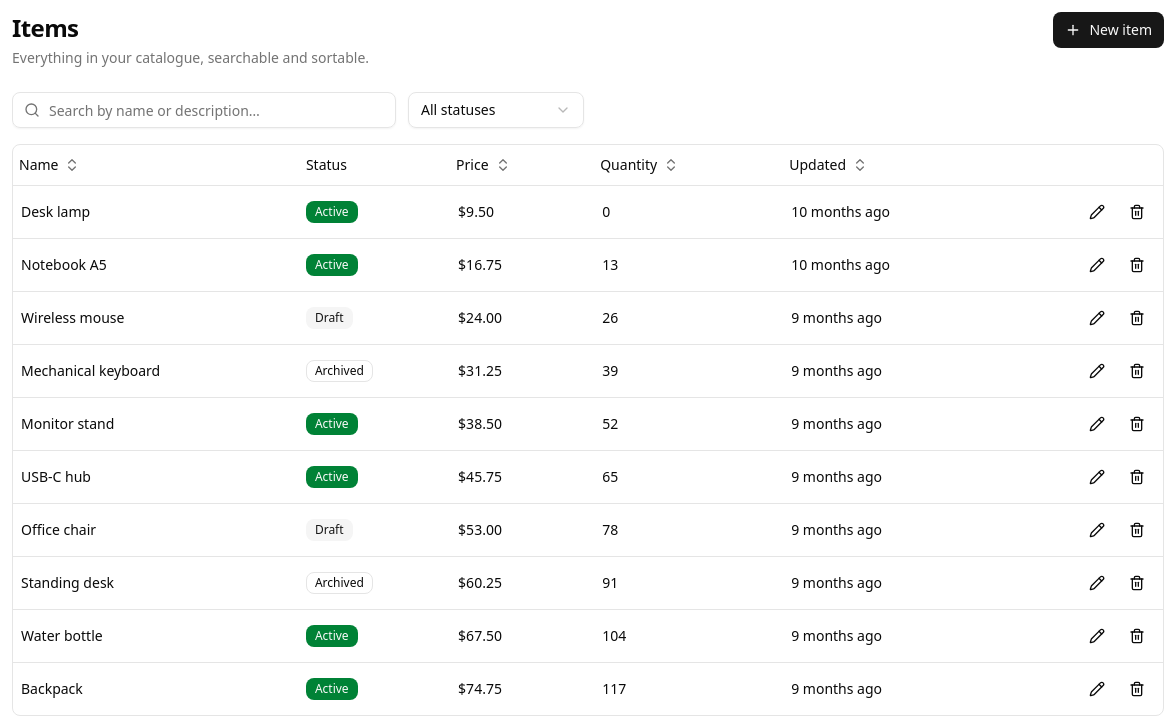
Test: ItemsListPage › sorts on the server when a column header is clicked
expect the link "Desk lamp" is shown: met, box x1=21 y1=202 x2=90 y2=220
What coordinates should you click on to do the following:
click the button "Price"
I would click on:
 (483, 165)
Its box is x1=446 y1=149 x2=521 y2=181.
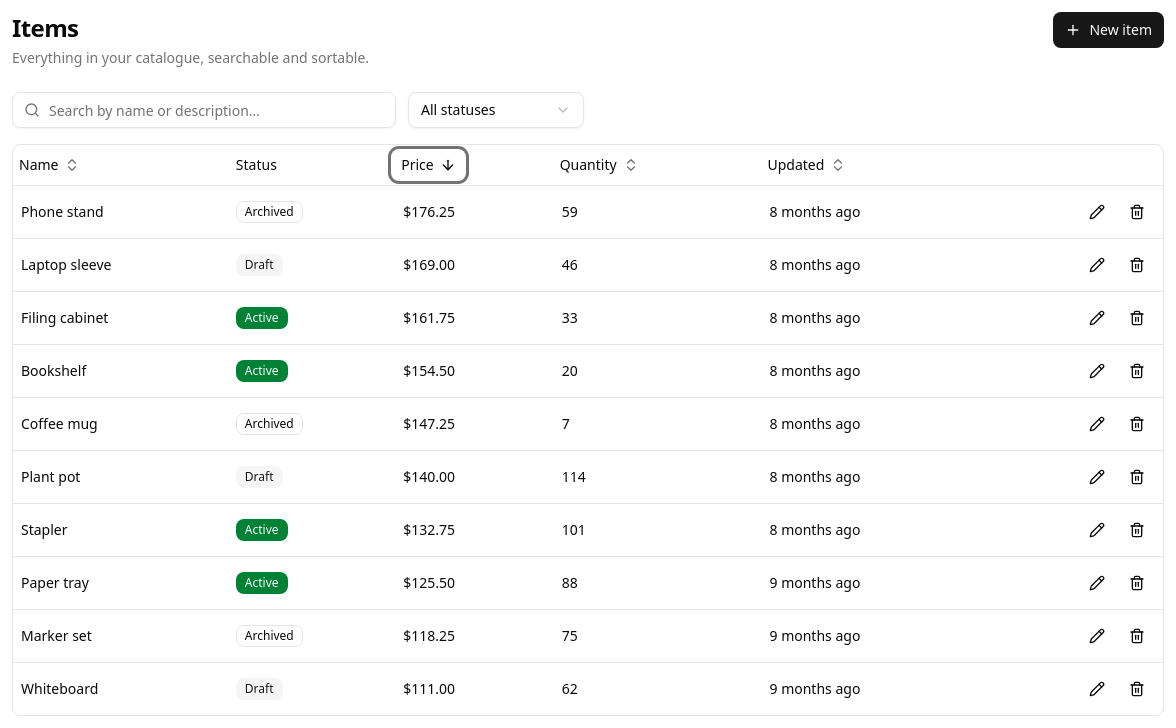
expect the link "Phone stand" is shown: met, box x1=21 y1=202 x2=104 y2=220
